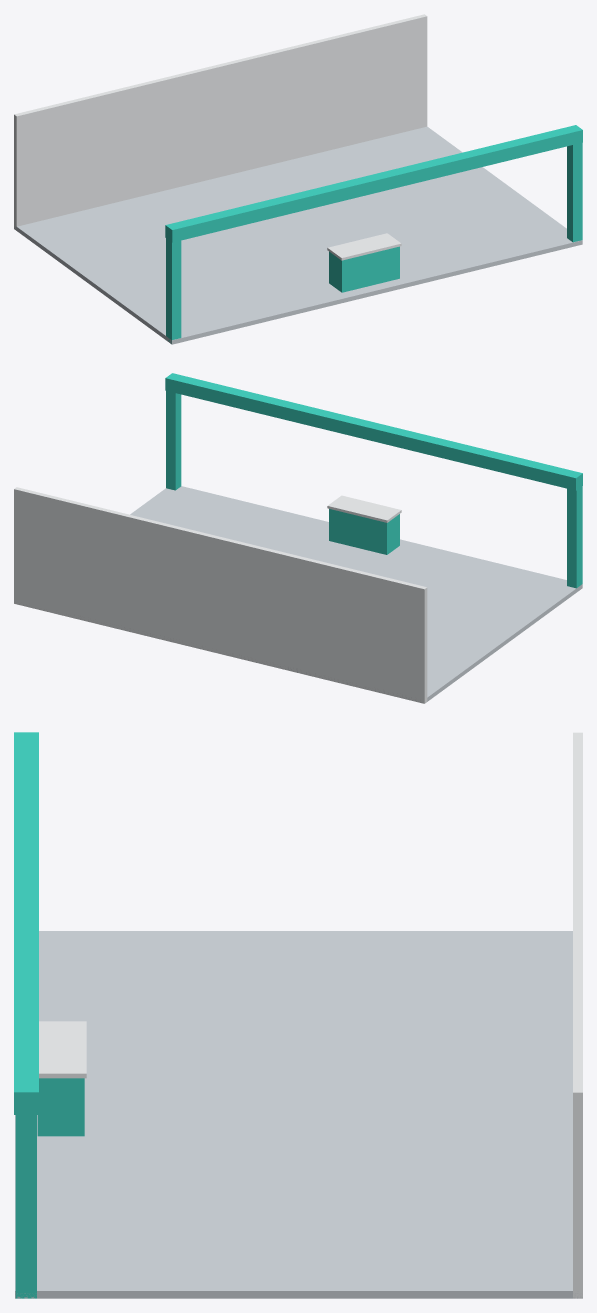
3 renders of one model, top to bottom at view 1: azimuth 30°, elevation 25°; view 2: azimuth 150°, elevation 25°; view 3: azimuth 270°, elevation 25°, orthographic. The views are drawn at different scales.
Visible parts, largest first — view 1: Exhibition Booth Concept; view 2: Exhibition Booth Concept; view 3: Exhibition Booth Concept.
Part boxes in pixels (x1,y1,x2,y2): Exhibition Booth Concept: (14,14,582,344); Exhibition Booth Concept: (14,373,582,703); Exhibition Booth Concept: (14,732,582,1298).
Size of the model in its own units: 12 by 3.2 by 8.01.
